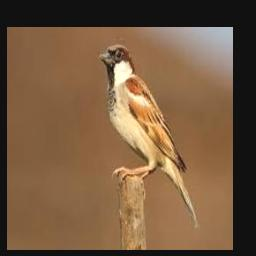Sparrow: (99, 44, 200, 230)
